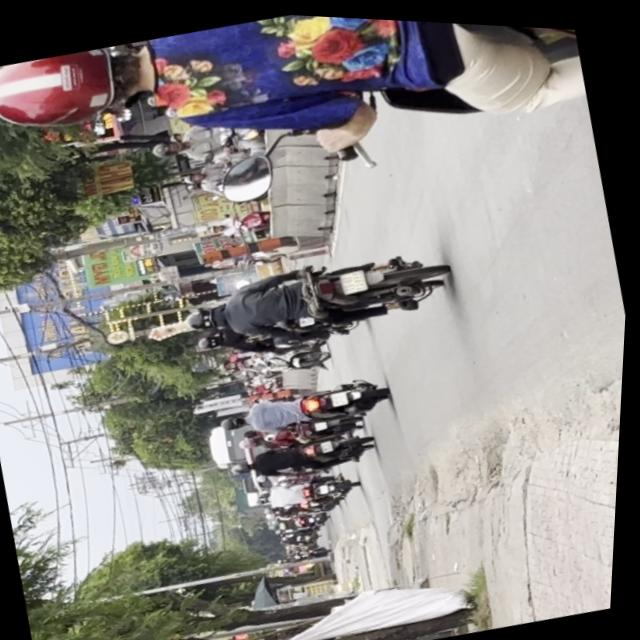helmet: (0, 32, 159, 147), (183, 297, 232, 332)
licenseplate: (0, 0, 594, 245), (176, 224, 458, 363)
nohelmet: (340, 262, 371, 290)
